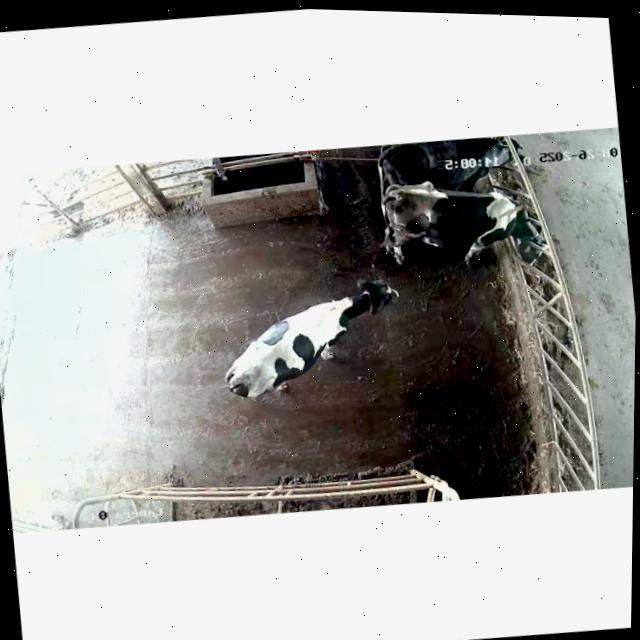stand: (225, 278, 399, 397)
